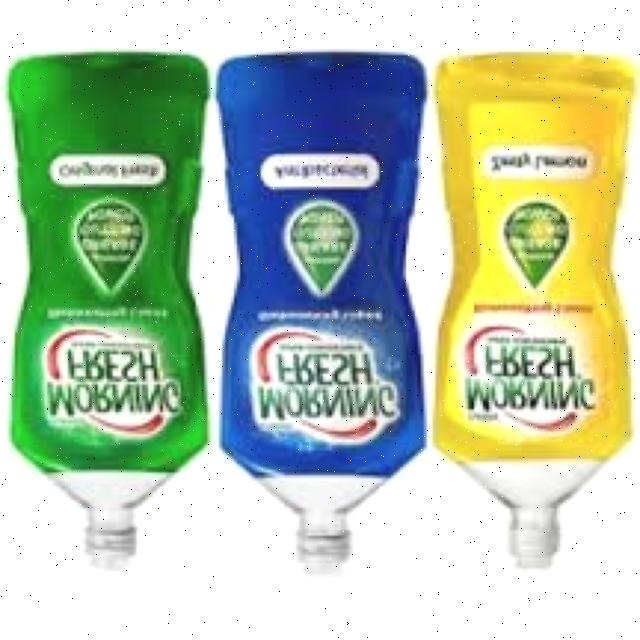liquid soap: (222, 42, 438, 573), (8, 49, 218, 570), (438, 53, 639, 570)
